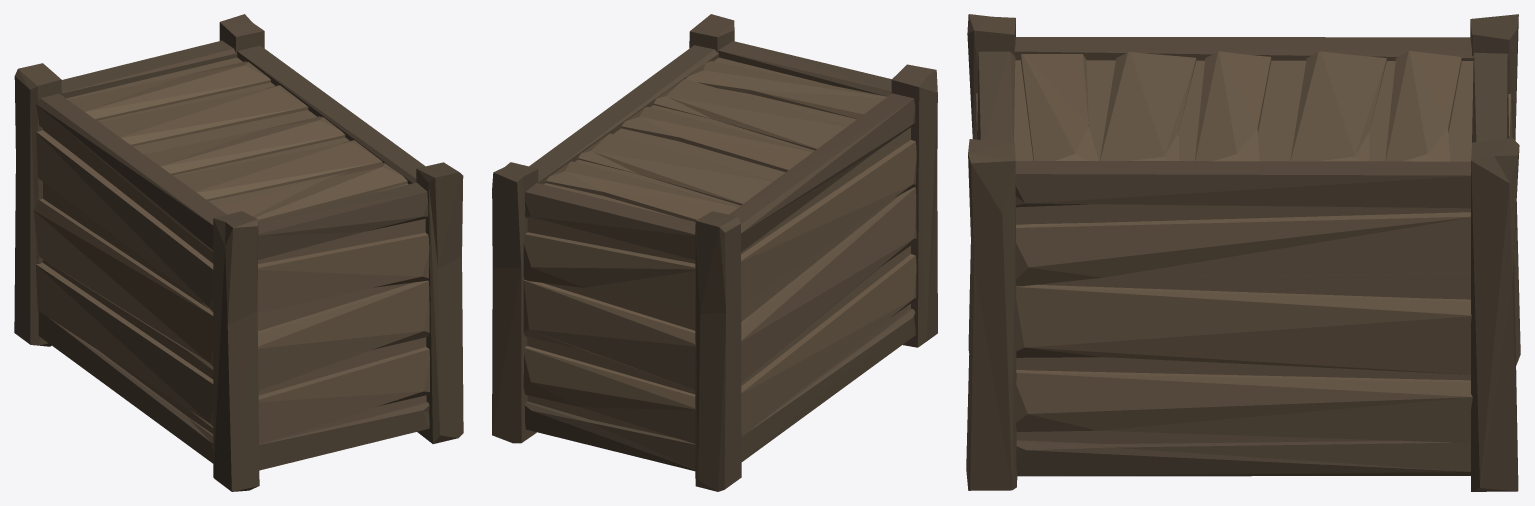
File: Big_box.glb
The picture shows the model from 3 angles, left to right: view 1: azimuth 30°, elevation 25°; view 2: azimuth 150°, elevation 25°; view 3: azimuth 270°, elevation 25°; orthographic projection. The views are drawn at different scales.
Parts seen in each view (by area): view 1: box2; view 2: box2; view 3: box2.
Boxes of the visible parts, bbox=[...] form: box2: bbox=[14, 14, 463, 491]; box2: bbox=[492, 14, 937, 491]; box2: bbox=[966, 14, 1520, 491].
Size of the model in its own units: 0.8663 by 0.9379 by 1.38.
